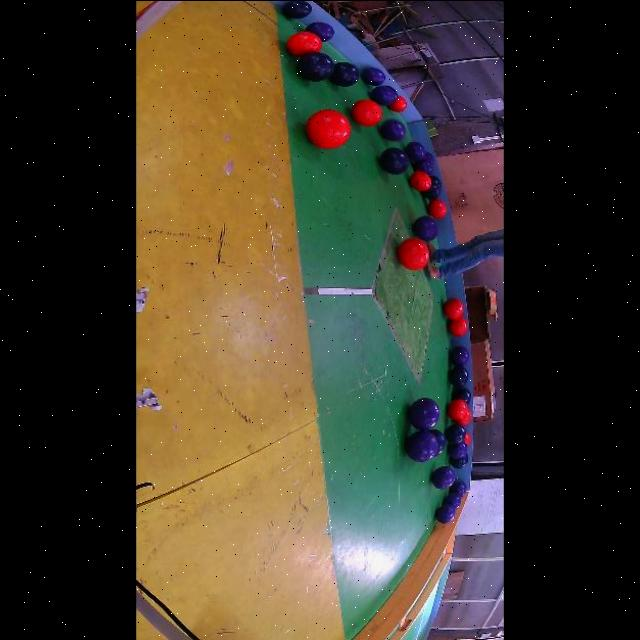B: (297, 52, 334, 81), (380, 146, 409, 174), (329, 62, 359, 86), (281, 0, 311, 18), (371, 85, 398, 104), (428, 427, 446, 455), (445, 422, 467, 444), (449, 366, 468, 386), (421, 181, 441, 199), (451, 386, 472, 403), (449, 453, 469, 468), (430, 174, 442, 188)
P: (405, 430, 439, 462), (408, 397, 440, 430), (413, 215, 439, 239), (306, 21, 334, 41), (431, 466, 455, 489), (381, 118, 405, 140), (413, 151, 435, 173), (435, 503, 456, 522), (405, 141, 426, 160), (363, 67, 385, 85), (450, 346, 469, 366), (448, 440, 468, 458), (449, 480, 468, 496), (442, 493, 462, 508)
R: (306, 109, 350, 147), (398, 237, 430, 269), (287, 31, 322, 57), (352, 99, 382, 126), (446, 398, 468, 420), (409, 170, 431, 191), (444, 297, 464, 319), (449, 316, 468, 335), (428, 199, 446, 218), (387, 95, 407, 112), (455, 408, 472, 425)
